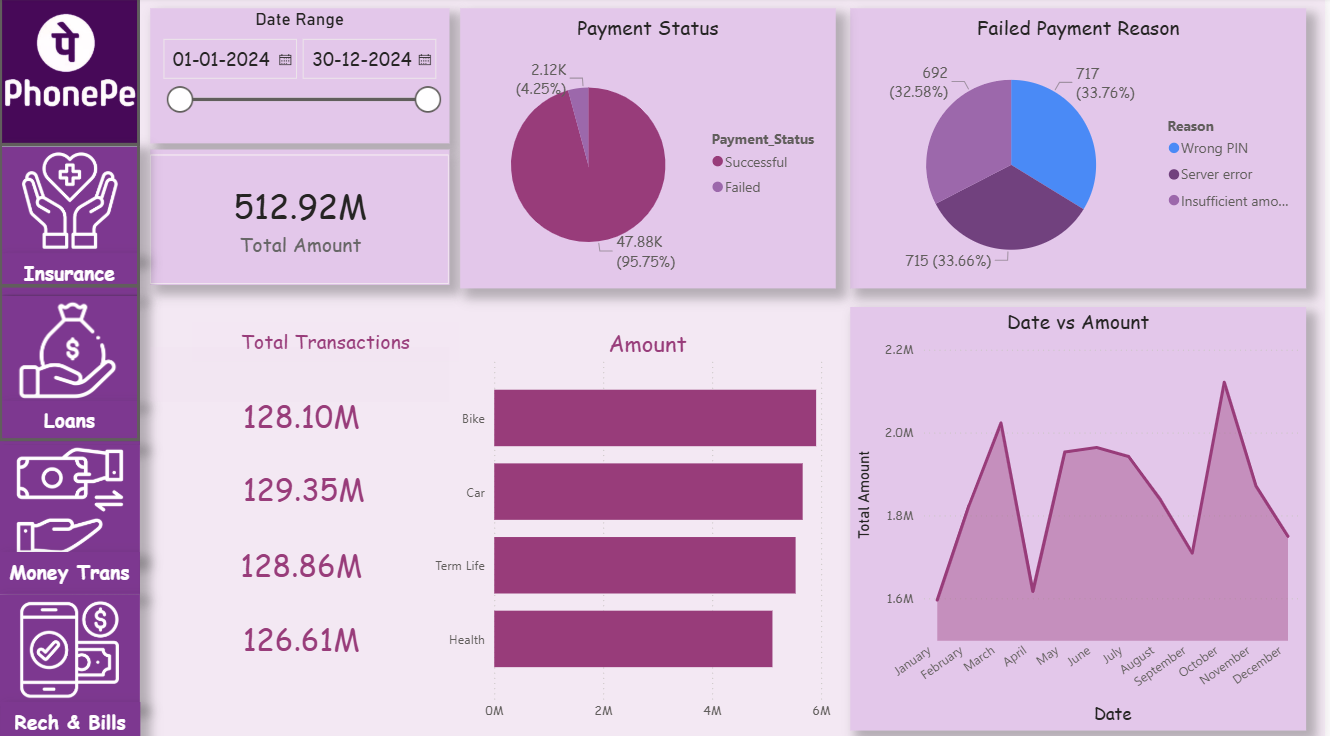

The dashboard page shown, as its layout file describes it:
{"tool":"powerbi","page":{"name":"Insurance","canvas":[1280,720],"ordinal":1},"visuals":[{"type":"shape","box":[0,0,136.3,144],"z":0,"group":"g1"},{"type":"slicer","title":"Date Range","fields":{"Values":["Loans.Date"]},"box":[146.2,11.2,288.8,130],"z":0},{"type":"shape","box":[0,288.1,136.3,144],"z":0,"group":"g4"},{"type":"shape","box":[0,144,136.3,144],"z":1000,"group":"g2"},{"type":"cardVisual","title":"Total Transaction Amount","fields":{"Data":["Sum(Insurance.Premium)"]},"box":[146.2,147.5,288.8,130],"z":1000},{"type":"shape","box":[0,432,136.3,144.8],"z":1000,"group":"g6"},{"type":"pieChart","title":"Failed Payment Reason","fields":{"Category":["Insurance.Reason"],"Y":["CountNonNull(Insurance.Reason)"]},"box":[821.2,11.2,440,270],"z":2000},{"type":"shape","box":[0,576.6,136.3,144],"z":2000,"group":"g7"},{"type":"image","box":[0,288,136.2,102.5],"z":3000,"group":"g4"},{"type":"areaChart","title":"Date vs Amount","fields":{"Category":["Insurance.Date.Variation.Date Hierarchy.Month"],"Y":["Sum(Insurance.Premium)"]},"box":[821.2,298.8,440,408.8],"z":3000},{"type":"group","id":"g1","title":"Group 3","box":[0,0,136.2,143.8],"z":4000},{"type":"textbox","box":[0,389.7,136.3,42.2],"z":4000,"group":"g4"},{"type":"image","box":[0,0,136.2,128.8],"z":5000,"group":"g1"},{"type":"group","id":"g2","title":"Group 4","box":[0,141,136.3,147.1],"z":5000},{"type":"group","id":"g3","title":"Group 1","box":[0,576,136.3,142.3],"z":5000,"group":"g7"},{"type":"group","id":"g4","title":"Group 5","box":[0,0,136.3,432.1],"z":6000},{"type":"group","id":"g5","title":"Group 2","box":[0,429,136.3,147.7],"z":6000,"group":"g6"},{"type":"image","box":[0,141,136.2,110],"z":7000,"group":"g2"},{"type":"group","id":"g6","title":"Group 6","box":[0,429,136.3,147.7],"z":7000},{"type":"image","box":[1.2,429,135,113.8],"z":7000,"group":"g5"},{"type":"textbox","box":[0,247.3,136.3,39.8],"z":8000,"group":"g2"},{"type":"group","id":"g7","title":"Group 7","box":[0,576,136.3,144.7],"z":8000},{"type":"image","box":[0,576,136.2,108.8],"z":8000,"group":"g3"},{"type":"actionButton","box":[0,277.5,136.2,151.2],"z":9000},{"type":"actionButton","box":[0,141.2,136.2,138.8],"z":10000},{"type":"pieChart","title":"Payment Status","fields":{"Category":["Insurance.Payment_Status"],"Y":["CountNonNull(Insurance.Payment_Status)"]},"box":[445,11.2,362.5,270],"z":11000},{"type":"clusteredBarChart","title":"Date vs Amount","fields":{"Y":["Sum(Insurance.Premium)"],"Category":["Insurance.Insurance_Type"]},"box":[410,337.5,397.5,370],"z":12000},{"type":"textbox","box":[0,535.7,136.3,41],"z":12000,"group":"g5"},{"type":"textbox","box":[186.2,313.8,258.8,38.8],"z":13000},{"type":"textbox","box":[1.2,680.9,135.1,37.4],"z":13000,"group":"g3"},{"type":"textbox","box":[146.2,337.5,288.8,52.5],"z":14000},{"type":"actionButton","box":[0,0,136.2,143.8],"z":14001,"group":"g4"},{"type":"card","fields":{"Values":["Sum(Insurance.Premium)"]},"box":[186.2,377.5,212.5,55],"z":15000},{"type":"textbox","box":[525,315,202.5,46.2],"z":16000},{"type":"card","fields":{"Values":["Sum(Insurance.Premium)"]},"box":[201.2,447.5,186.2,56.2],"z":17000},{"type":"card","fields":{"Values":["Sum(Insurance.Premium)"]},"box":[186.2,522.5,212.5,53.8],"z":18000},{"type":"card","fields":{"Values":["Sum(Insurance.Premium)"]},"box":[186.2,595,212.5,52.5],"z":19000}]}

Visuals, with their boxes in screenshot pixels (x1, y1, x2, y2), scaled from the page's 1280x720 canvas onto the 1330x736 screenshot:
shape: Rect(0, 0, 142, 147)
"Date Range" slicer: Rect(152, 11, 452, 144)
shape: Rect(0, 295, 142, 442)
shape: Rect(0, 147, 142, 294)
"Total Transaction Amount" cardVisual: Rect(152, 151, 452, 284)
shape: Rect(0, 442, 142, 590)
"Failed Payment Reason" pieChart: Rect(853, 11, 1310, 287)
shape: Rect(0, 589, 142, 735)
image: Rect(0, 294, 142, 399)
"Date vs Amount" areaChart: Rect(853, 305, 1310, 723)
"Group 3" group: Rect(0, 0, 142, 147)
textbox: Rect(0, 398, 142, 441)
image: Rect(0, 0, 142, 132)
"Group 4" group: Rect(0, 144, 142, 295)
"Group 1" group: Rect(0, 589, 142, 734)
"Group 5" group: Rect(0, 0, 142, 442)
"Group 2" group: Rect(0, 439, 142, 590)
image: Rect(0, 144, 142, 257)
"Group 6" group: Rect(0, 439, 142, 590)
image: Rect(1, 439, 142, 555)
textbox: Rect(0, 253, 142, 293)
"Group 7" group: Rect(0, 589, 142, 735)
image: Rect(0, 589, 142, 700)
actionButton: Rect(0, 284, 142, 438)
actionButton: Rect(0, 144, 142, 286)
"Payment Status" pieChart: Rect(462, 11, 839, 287)
"Date vs Amount" clusteredBarChart: Rect(426, 345, 839, 723)
textbox: Rect(0, 548, 142, 590)
textbox: Rect(193, 321, 462, 360)
textbox: Rect(1, 696, 142, 734)
textbox: Rect(152, 345, 452, 399)
actionButton: Rect(0, 0, 142, 147)
card - Sum(Insurance.Premium): Rect(193, 386, 414, 442)
textbox: Rect(546, 322, 756, 369)
card - Sum(Insurance.Premium): Rect(209, 457, 403, 515)
card - Sum(Insurance.Premium): Rect(193, 534, 414, 589)
card - Sum(Insurance.Premium): Rect(193, 608, 414, 662)
